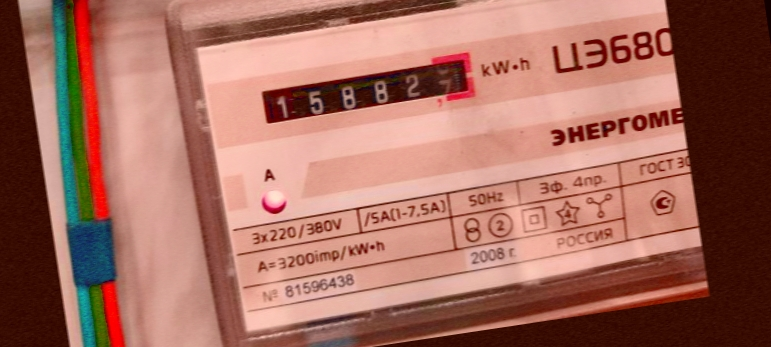1: (276, 93, 294, 123)
2: (405, 73, 425, 103)
5: (307, 89, 329, 119)
7: (438, 78, 456, 97)
8: (340, 85, 360, 115), (374, 79, 392, 109)
screen: (248, 45, 490, 141)
